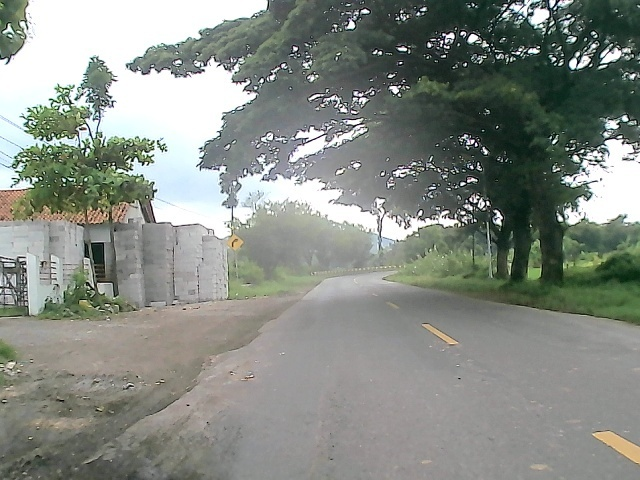Tikungan ke kanan: (226, 234, 245, 251)
